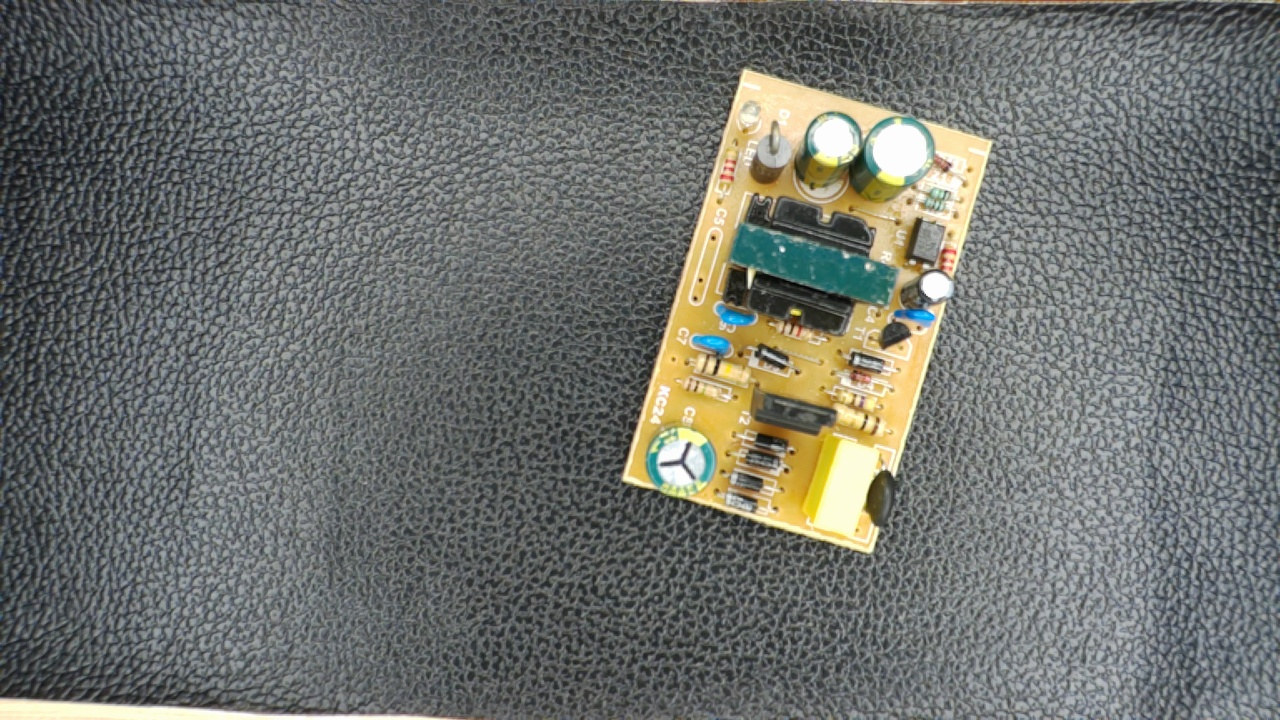fuse: (857, 452, 903, 536)
hv_capacitor: (644, 420, 717, 501)
optocoupler: (899, 210, 944, 273)
